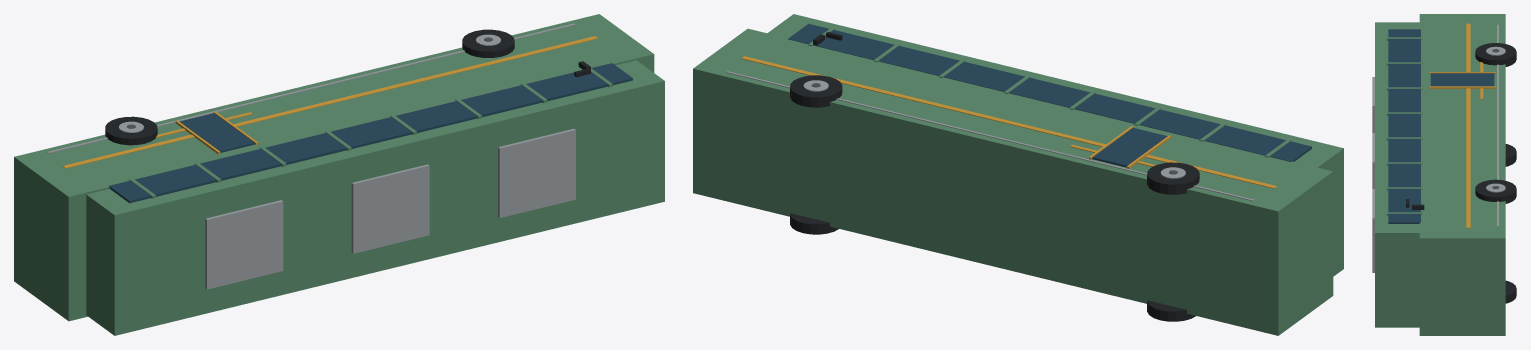
File: RM_Bus_34.glb
3 views of the same model, side by side, from view 1: azimuth 30°, elevation 25°; view 2: azimuth 150°, elevation 25°; view 3: azimuth 270°, elevation 25° (orthographic). The views are drawn at different scales.
Parts seen in each view (by area): view 1: part_001, part_000, part_002, part_038, part_037, part_039, part_013, part_040, part_014, part_030, part_024; view 2: part_000, part_002, part_001, part_013, part_040, part_030, part_024, part_014, part_021, part_027; view 3: part_000, part_001, part_002, part_013, part_040, part_024, part_030, part_014, part_039, part_027, part_021, part_042 (+5 smaller).
Boxes of the visible parts, bbox=[...] form: part_001: bbox=[86, 60, 664, 335]; part_000: bbox=[14, 14, 654, 321]; part_002: bbox=[109, 63, 632, 203]; part_038: bbox=[351, 164, 429, 253]; part_037: bbox=[205, 200, 283, 289]; part_039: bbox=[498, 128, 575, 217]; part_013: bbox=[62, 36, 598, 168]; part_040: bbox=[179, 113, 254, 152]; part_014: bbox=[47, 23, 575, 153]; part_030: bbox=[462, 29, 514, 57]; part_024: bbox=[105, 116, 157, 145]; part_000: bbox=[693, 28, 1333, 335]; part_002: bbox=[788, 23, 1311, 161]; part_001: bbox=[767, 14, 1343, 276]; part_013: bbox=[741, 56, 1277, 188]; part_040: bbox=[1092, 127, 1167, 167]; part_030: bbox=[790, 75, 842, 107]; part_024: bbox=[1147, 162, 1199, 194]; part_014: bbox=[726, 71, 1254, 201]; part_021: bbox=[1147, 300, 1195, 321]; part_027: bbox=[790, 213, 838, 234]; part_000: bbox=[1419, 14, 1505, 335]; part_001: bbox=[1375, 22, 1419, 327]; part_002: bbox=[1388, 29, 1420, 223]; part_013: bbox=[1466, 23, 1470, 228]; part_040: bbox=[1430, 73, 1494, 86]; part_024: bbox=[1475, 43, 1516, 66]; part_030: bbox=[1475, 179, 1516, 203]; part_014: bbox=[1497, 24, 1498, 226]; part_039: bbox=[1372, 189, 1374, 272]; part_027: bbox=[1505, 280, 1516, 303]; part_021: bbox=[1505, 144, 1516, 166]; part_042: bbox=[1429, 86, 1495, 88].
Size of the model in its own units: 12.06 by 2.77 by 3.28.
